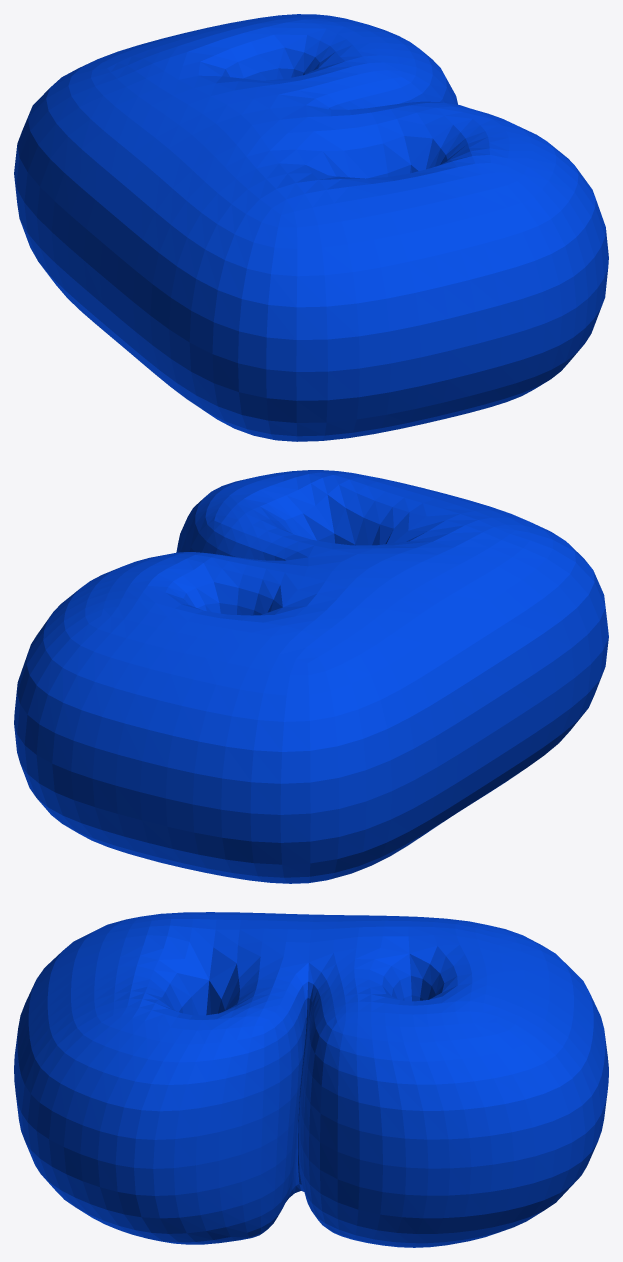
3 views of the same model, one above another, from view 1: azimuth 30°, elevation 25°; view 2: azimuth 150°, elevation 25°; view 3: azimuth 270°, elevation 25° (orthographic). The views are drawn at different scales.
Bounding box in the file's own units: 0.742 × 0.4456 × 1.01.
